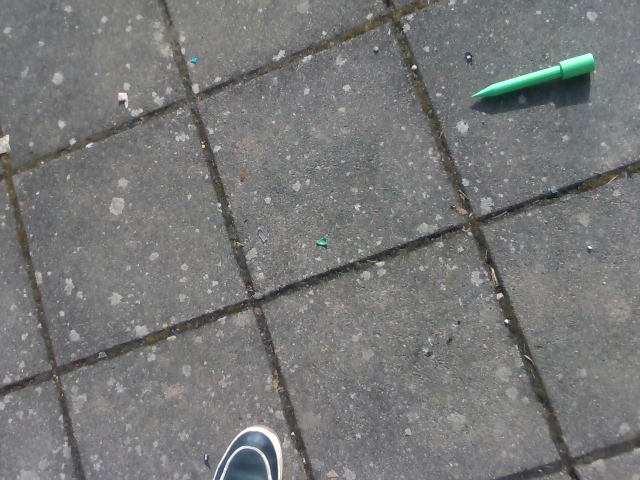Probe: (465, 42, 599, 107)
